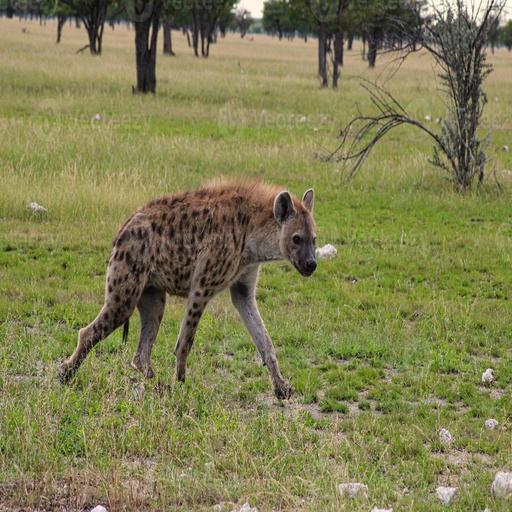Hyena: (53, 174, 330, 399)
